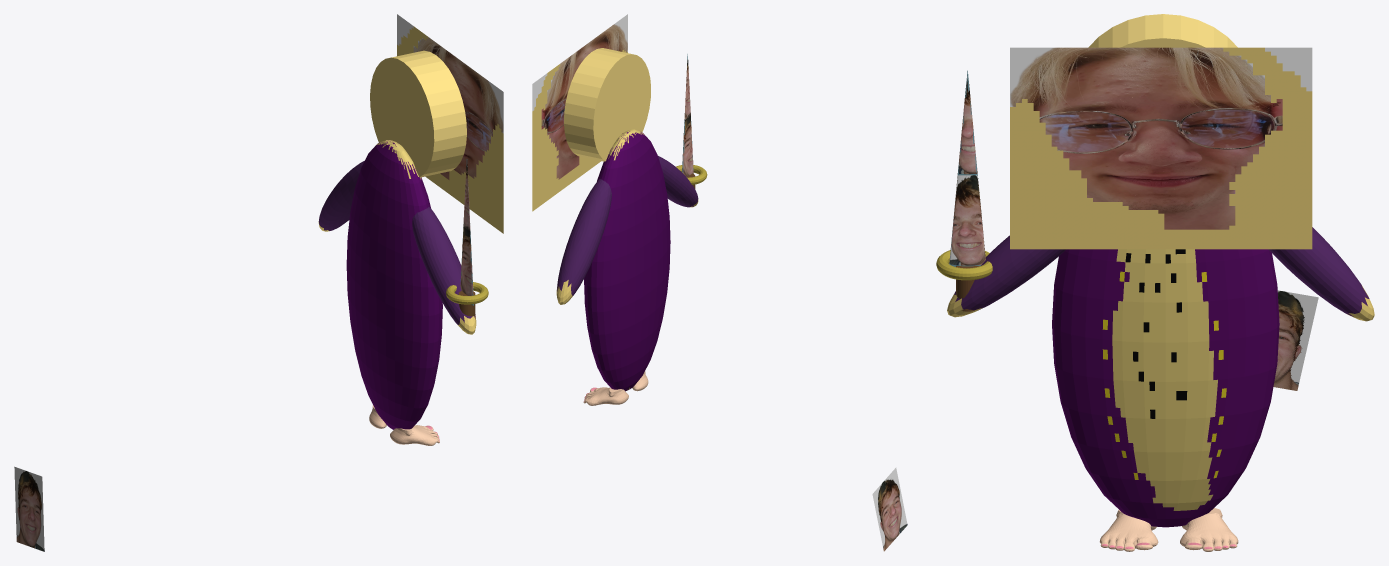
Rendered from Larsmedsverdblend.glb.
3 renders of one model, left to right at view 1: azimuth 30°, elevation 25°; view 2: azimuth 150°, elevation 25°; view 3: azimuth 270°, elevation 25°, orthographic. The views are drawn at different scales.
Parts seen in each view (by area): view 1: Sphere, Cylinder, Lars_briller, Sphere.001, kub.001, Cone, Sphere.002, node_id5; view 2: Sphere, Cylinder, Lars_briller, Sphere.002, kub.001, Cone, Sphere.001, node_id8; view 3: Lars_briller, Sphere, Cone, Sphere.002, Cylinder, Sphere.001, kub.001, node_id8, node_id5.
Part boxes in pixels (box(x1,y1,x2,y2)): Sphere: box(346, 140, 442, 429); Cylinder: box(370, 50, 466, 177); Lars_briller: box(397, 14, 503, 233); Sphere.001: box(412, 207, 476, 334); kub.001: box(14, 466, 44, 551); Cone: box(446, 159, 488, 316); Sphere.002: box(318, 161, 364, 231); node_id5: box(390, 425, 439, 445); Sphere: box(584, 129, 670, 391); Cylinder: box(564, 48, 650, 161); Lars_briller: box(532, 14, 627, 211); Sphere.002: box(556, 179, 611, 304); kub.001: box(872, 467, 907, 551); Cone: box(676, 54, 707, 188); Sphere.001: box(658, 156, 698, 207); node_id8: box(583, 387, 628, 405); Lars_briller: box(1010, 47, 1312, 249); Sphere: box(1052, 249, 1279, 527); Cone: box(936, 70, 992, 311); Sphere.002: box(1268, 227, 1374, 321); Cylinder: box(1088, 14, 1237, 47); Sphere.001: box(947, 235, 1065, 317); kub.001: box(1273, 290, 1318, 390); node_id8: box(1180, 508, 1238, 551); node_id5: box(1099, 510, 1158, 551).
Bounding box in the file's own units: 5.56 × 5.94 × 3.85.
17 materials, 4 textured.
